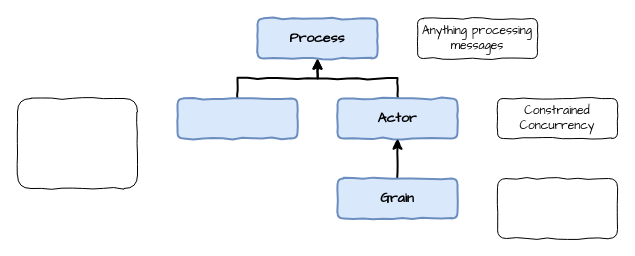
Image size: 635x256. Some labels were removed from this diagram. Each missing label, with the box of its shape:
Automatic Activation and placement: (496, 178, 618, 238)
Router: (176, 97, 298, 139)
Routes messages to other processes No concurrency constraints: (16, 98, 138, 188)
